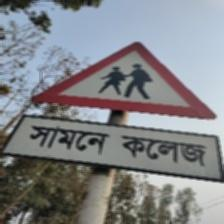College-in-front: (0, 33, 224, 187)
